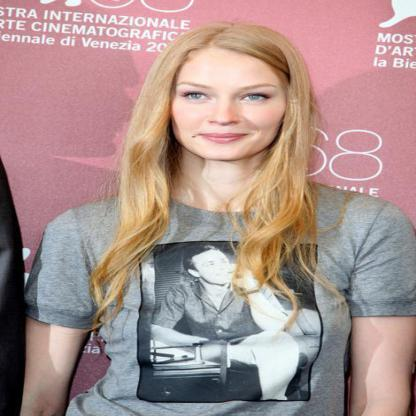long-hair: (113, 163, 330, 216)
